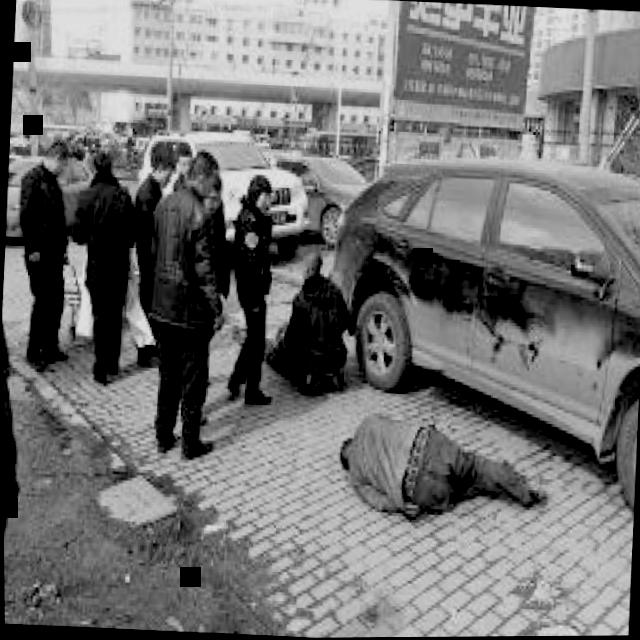Fall-Detected: (325, 393, 565, 531)
